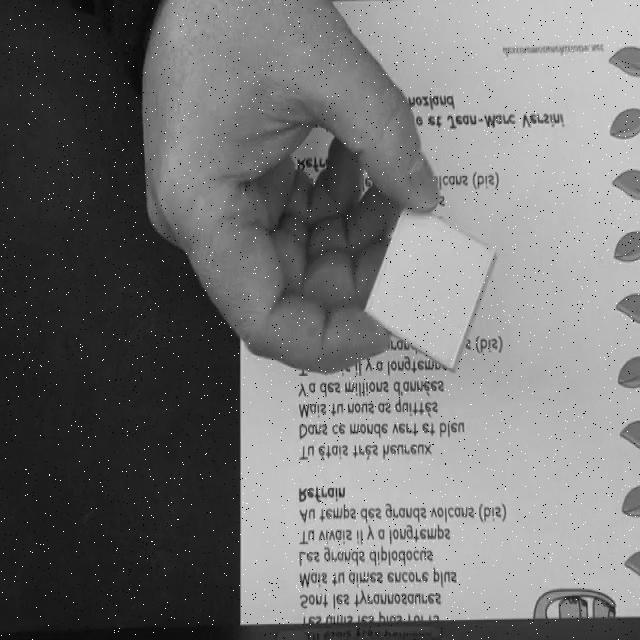square: (364, 204, 496, 373)
